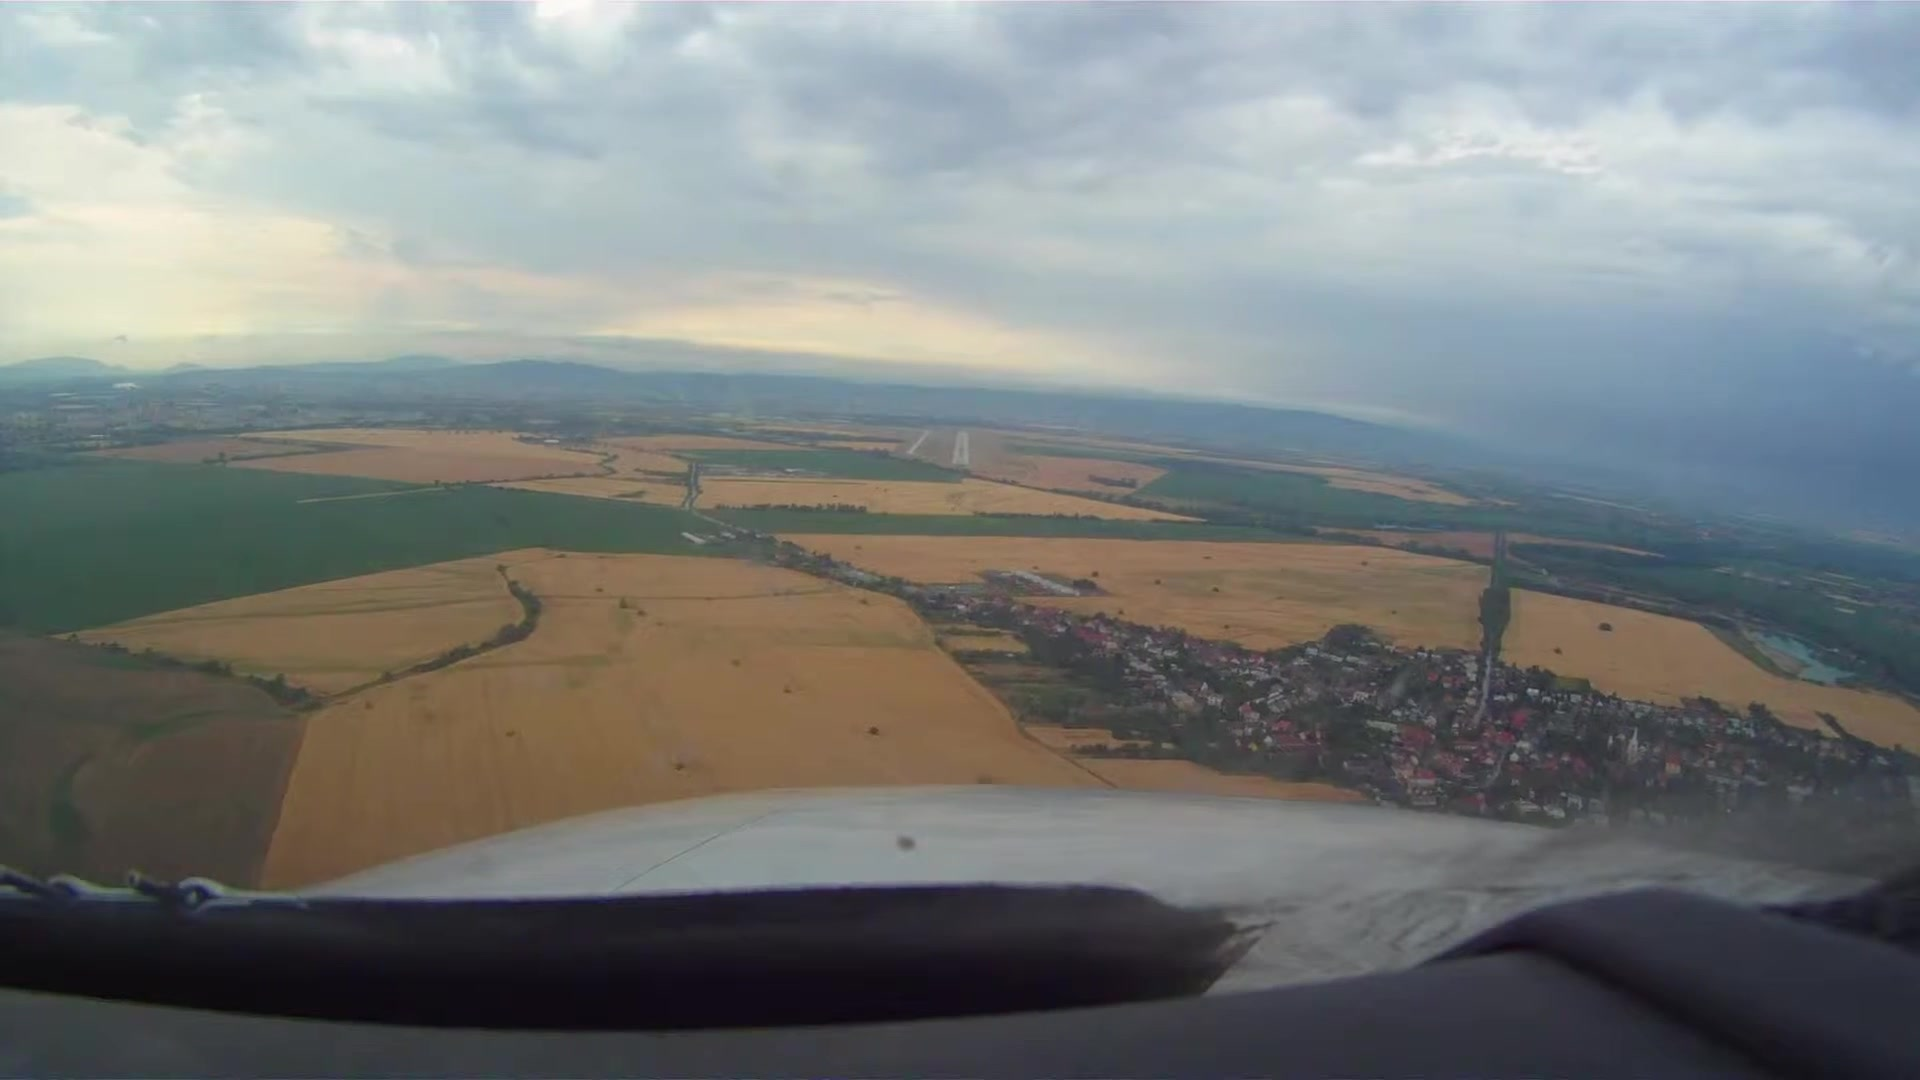runway: (949, 427, 973, 469)
